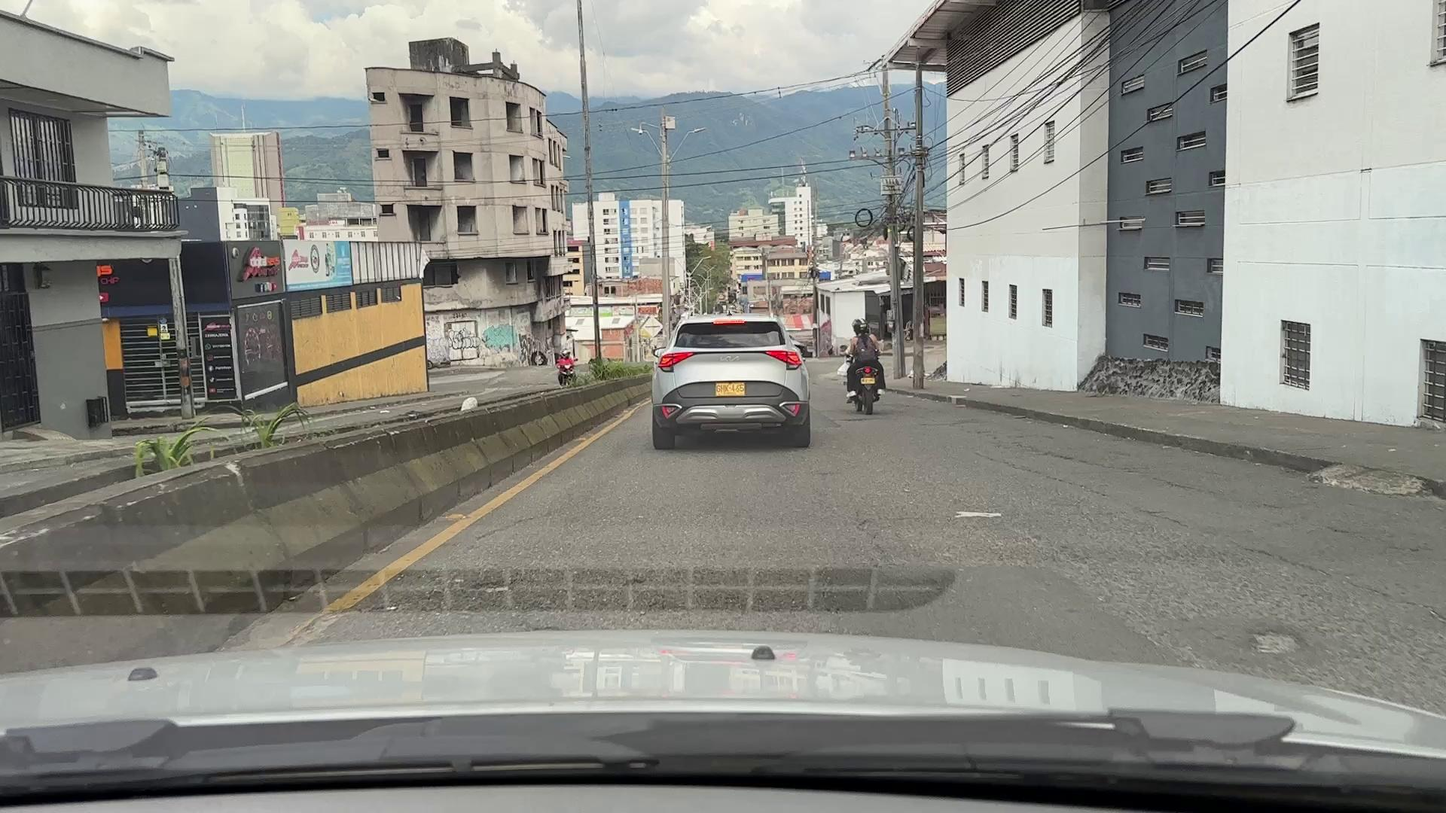bache: (1252, 634, 1298, 653), (956, 512, 1001, 518)
